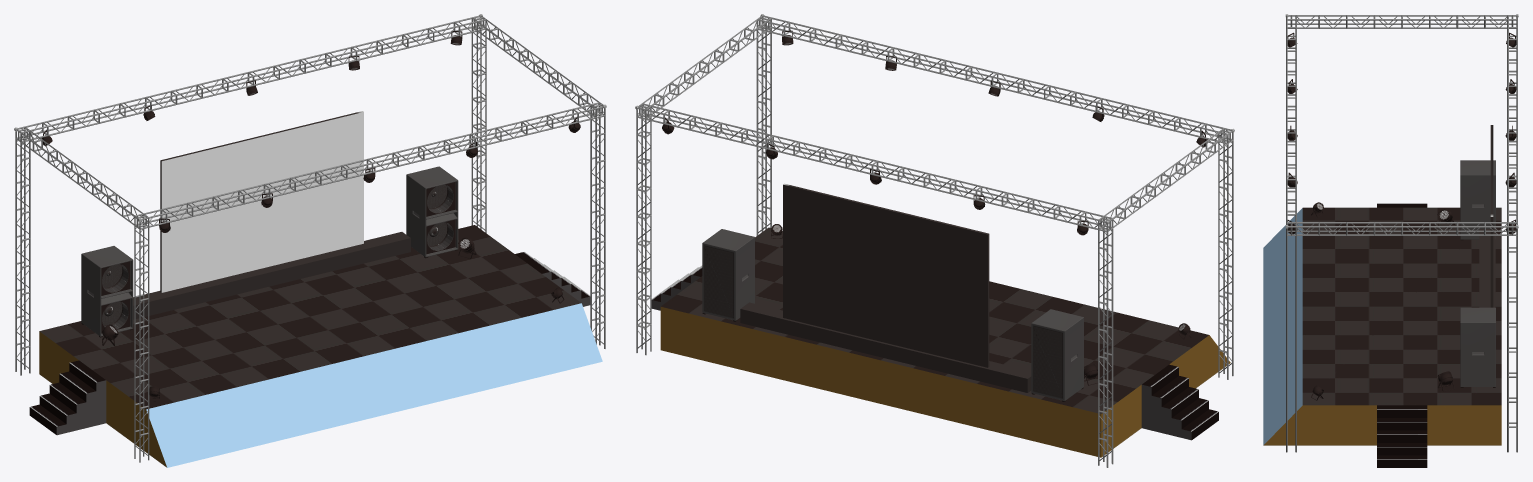
The model's file is stage.glb.
3 renders of one model, left to right at view 1: azimuth 30°, elevation 25°; view 2: azimuth 150°, elevation 25°; view 3: azimuth 270°, elevation 25°, orthographic. The views are drawn at different scales.
Visible parts, largest first — view 1: MainBuilding; view 2: MainBuilding; view 3: MainBuilding.
Boxes of the visible parts, left/top/right/bottom form: MainBuilding: left=14, top=14, right=606, bottom=467; MainBuilding: left=635, top=14, right=1234, bottom=467; MainBuilding: left=1263, top=14, right=1518, bottom=467.
Bounding box in the file's own units: 1.56 × 0.6788 × 0.6932.
1 material, 1 textured.
